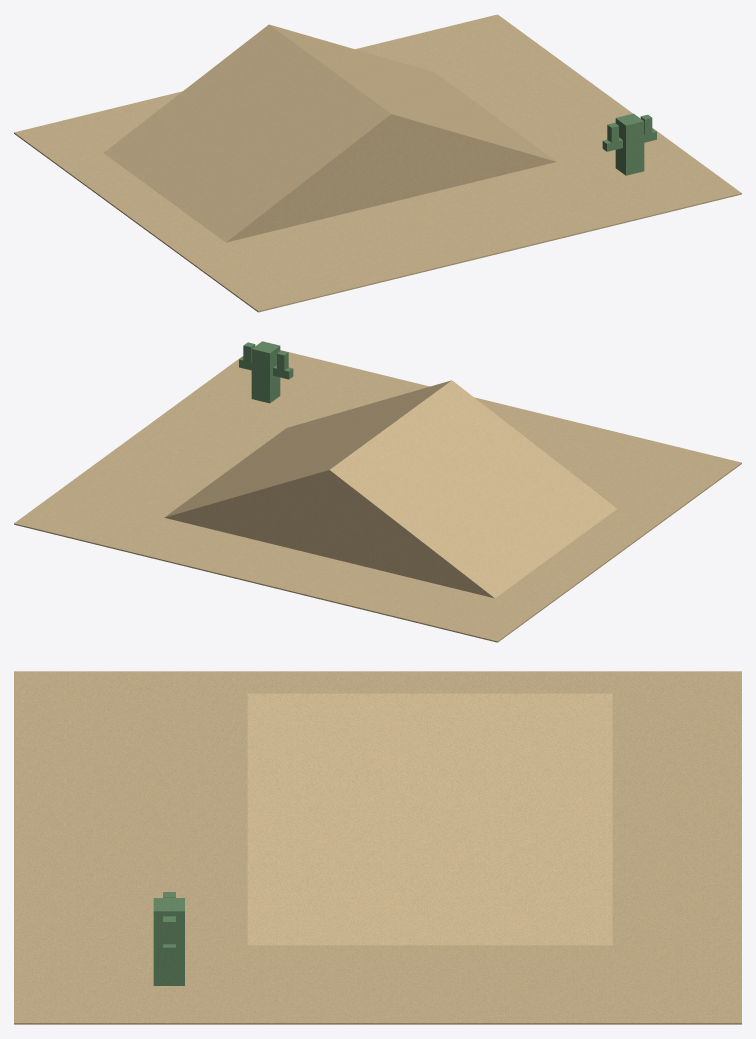
File: plot-arid.glb
3 views of the same model, one above another, from view 1: azimuth 30°, elevation 25°; view 2: azimuth 150°, elevation 25°; view 3: azimuth 270°, elevation 25° (orthographic). The views are drawn at different scales.
Size of the model in its own units: 15.96 by 2.82 by 13.96.
2 materials, 2 textured.
